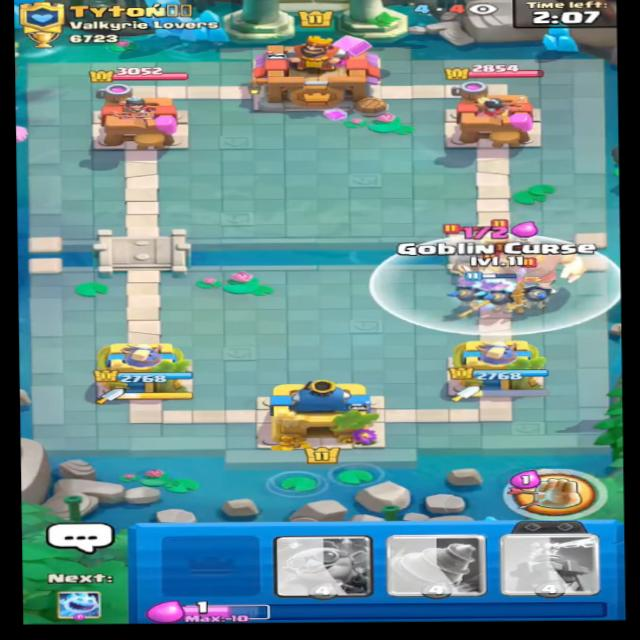giant: (487, 233, 594, 293)
